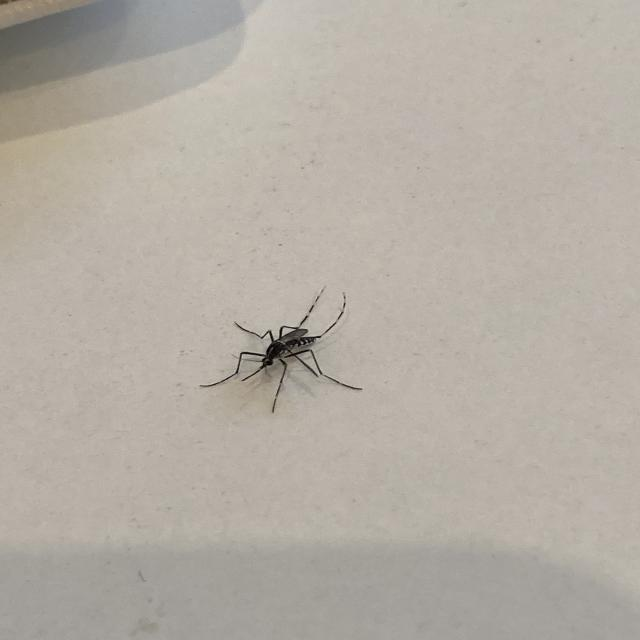albopictus: (195, 282, 366, 410)
